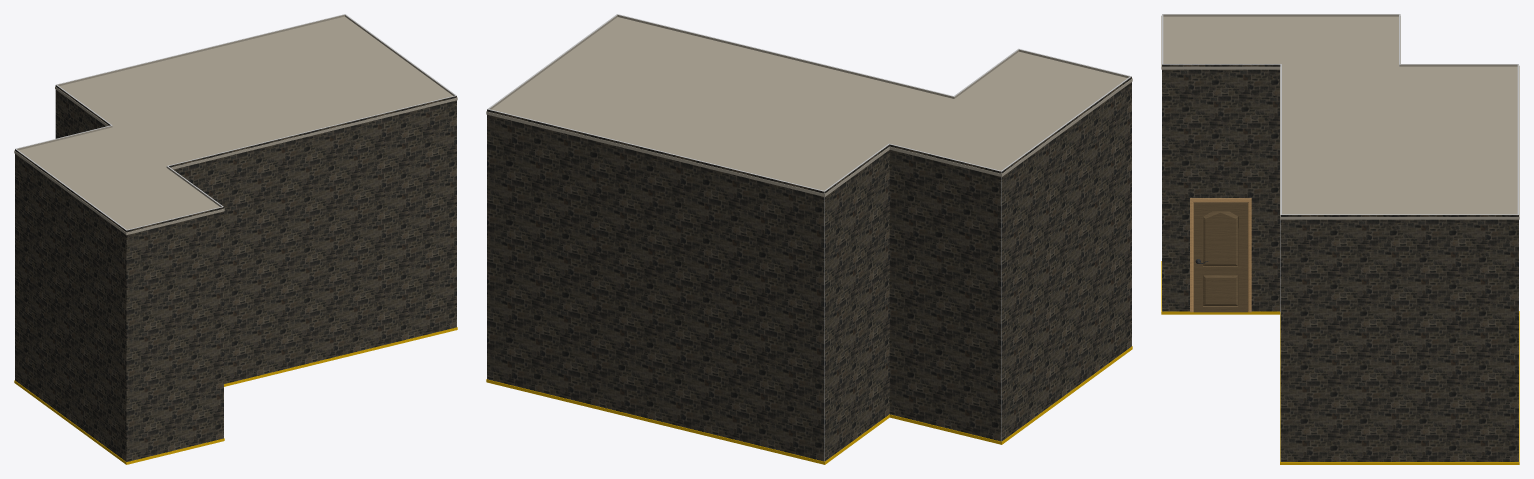
The model's file is ProcTHOR-Train-0.glb.
3 views of the same model, side by side, from view 1: azimuth 30°, elevation 25°; view 2: azimuth 150°, elevation 25°; view 3: azimuth 270°, elevation 25° (orthographic). The views are drawn at different scales.
Visible parts, largest first — view 1: WallInside#wall|exterior|0.00|3.99|5.99|3.99, Ceiling#room|2|c, WallInside#wall|exterior|7.98|2.00|7.98|5.99, WallInside#wall|exterior|5.99|5.99|7.98|5.99, Floor#room|2|f, WallInside#wall|exterior|5.99|0.00|5.99|2.00, WallInside#wall|2|0.00|0.00|5.99|0.00; view 2: WallInside#wall|exterior|0.00|0.00|5.99|0.00, Ceiling#room|2|c, WallInside#wall|exterior|7.98|2.00|7.98|5.99, WallInside#wall|exterior|5.99|2.00|7.98|2.00, WallInside#wall|exterior|5.99|0.00|5.99|2.00, Floor#room|2|f, WallInside#wall|2|0.00|3.99|5.99|3.99; view 3: WallInside#wall|exterior|0.00|0.00|0.00|3.99, Ceiling#room|2|c, WallInside#wall|exterior|5.99|3.99|5.99|5.99, Doorway_6, Floor#room|2|f, WallInside#wall|2|7.98|2.00|7.98|5.99, WallInside#wall|exterior|0.00|3.99|5.99|3.99.
Part boxes in pixels (<box>): WallInside#wall|exterior|0.00|3.99|5.99|3.99: <box>168,96,456,383</box>; Ceiling#room|2|c: <box>14,16,457,234</box>; WallInside#wall|exterior|7.98|2.00|7.98|5.99: <box>15,148,126,461</box>; WallInside#wall|exterior|5.99|5.99|7.98|5.99: <box>126,207,223,461</box>; Floor#room|2|f: <box>14,327,457,464</box>; WallInside#wall|exterior|5.99|0.00|5.99|2.00: <box>55,85,111,138</box>; WallInside#wall|2|0.00|0.00|5.99|0.00: <box>56,14,345,86</box>; WallInside#wall|exterior|0.00|0.00|5.99|0.00: <box>487,109,824,461</box>; Ceiling#room|2|c: <box>486,17,1132,196</box>; WallInside#wall|exterior|7.98|2.00|7.98|5.99: <box>1001,76,1131,441</box>; WallInside#wall|exterior|5.99|2.00|7.98|2.00: <box>889,144,1001,441</box>; WallInside#wall|exterior|5.99|0.00|5.99|2.00: <box>824,144,889,461</box>; Floor#room|2|f: <box>486,346,1132,464</box>; WallInside#wall|2|0.00|3.99|5.99|3.99: <box>617,14,954,98</box>; WallInside#wall|exterior|0.00|0.00|0.00|3.99: <box>1280,214,1518,461</box>; Ceiling#room|2|c: <box>1161,15,1519,219</box>; WallInside#wall|exterior|5.99|3.99|5.99|5.99: <box>1162,64,1280,311</box>; Doorway_6: <box>1190,198,1251,312</box>; Floor#room|2|f: <box>1161,261,1519,464</box>; WallInside#wall|2|7.98|2.00|7.98|5.99: <box>1163,14,1399,16</box>; WallInside#wall|exterior|0.00|3.99|5.99|3.99: <box>1280,64,1281,461</box>.
Size of what is drawn, in the model's own units: 8.02 by 4.64 by 6.03.
92 materials, 40 textured.
